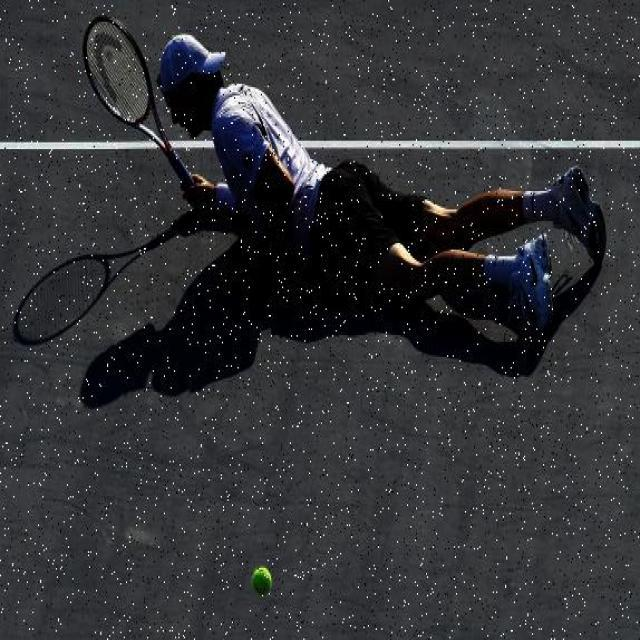fall: (160, 40, 596, 334)
